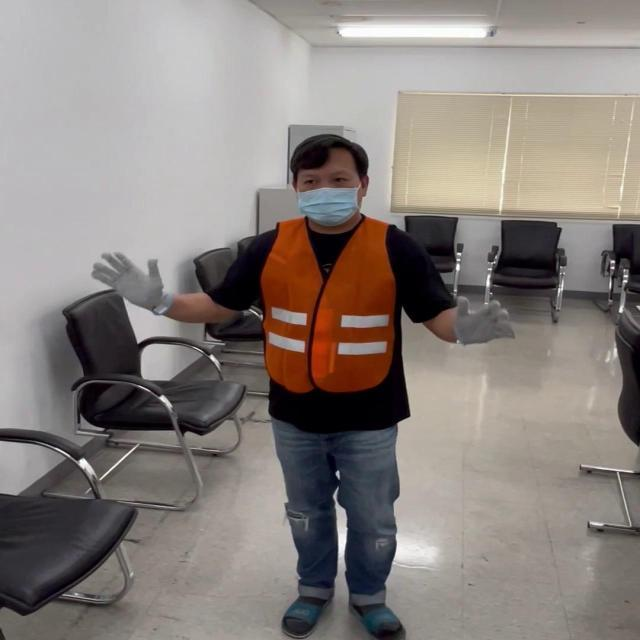gloved_hand: (96, 240, 174, 310), (443, 291, 513, 348)
